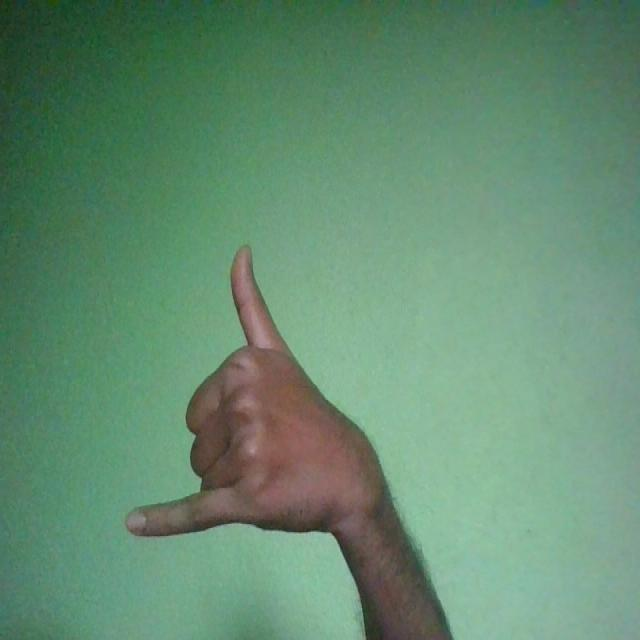Call Me: (123, 242, 390, 538)
